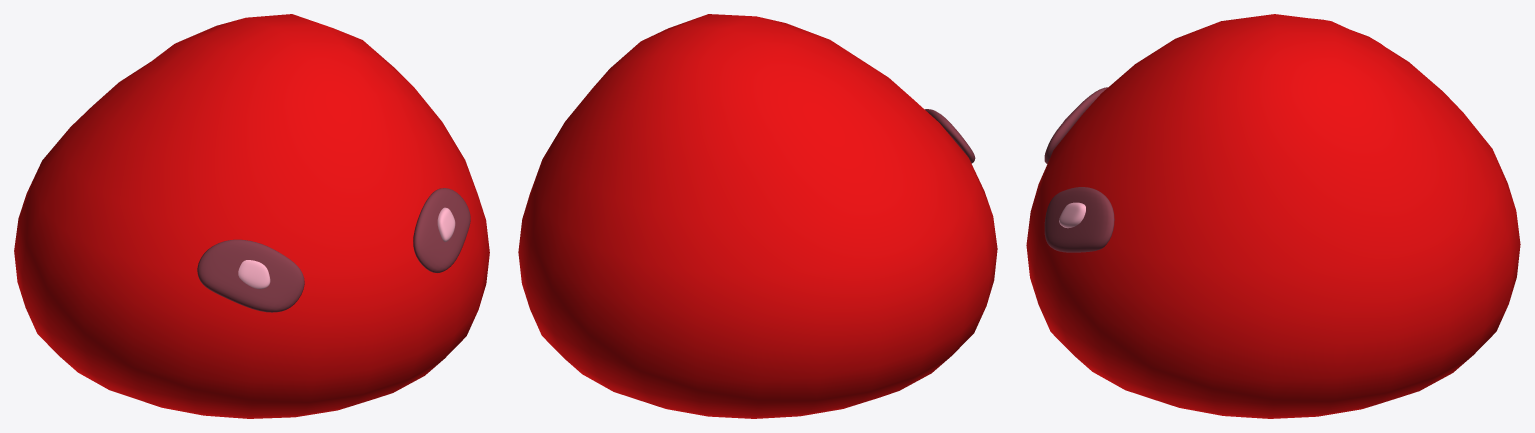
File: slime_boss.fbx
3 renders of one model, left to right at view 1: azimuth 30°, elevation 25°; view 2: azimuth 150°, elevation 25°; view 3: azimuth 270°, elevation 25°, orthographic. The views are drawn at different scales.
Parts seen in each view (by area): view 1: Cube, Plane.001, Plane.003; view 2: Cube, Plane.001; view 3: Cube, Plane.001, Plane.003.
Part boxes in pixels (bbox=[...]): Cube: bbox=[14, 14, 489, 418]; Plane.001: bbox=[197, 188, 470, 312]; Plane.003: bbox=[238, 207, 455, 289]; Cube: bbox=[518, 14, 997, 418]; Plane.001: bbox=[925, 109, 975, 163]; Cube: bbox=[1026, 14, 1520, 418]; Plane.001: bbox=[1044, 87, 1114, 252]; Plane.003: bbox=[1059, 114, 1085, 228].
Size of the model in its own units: 1737 by 1269 by 1721.
